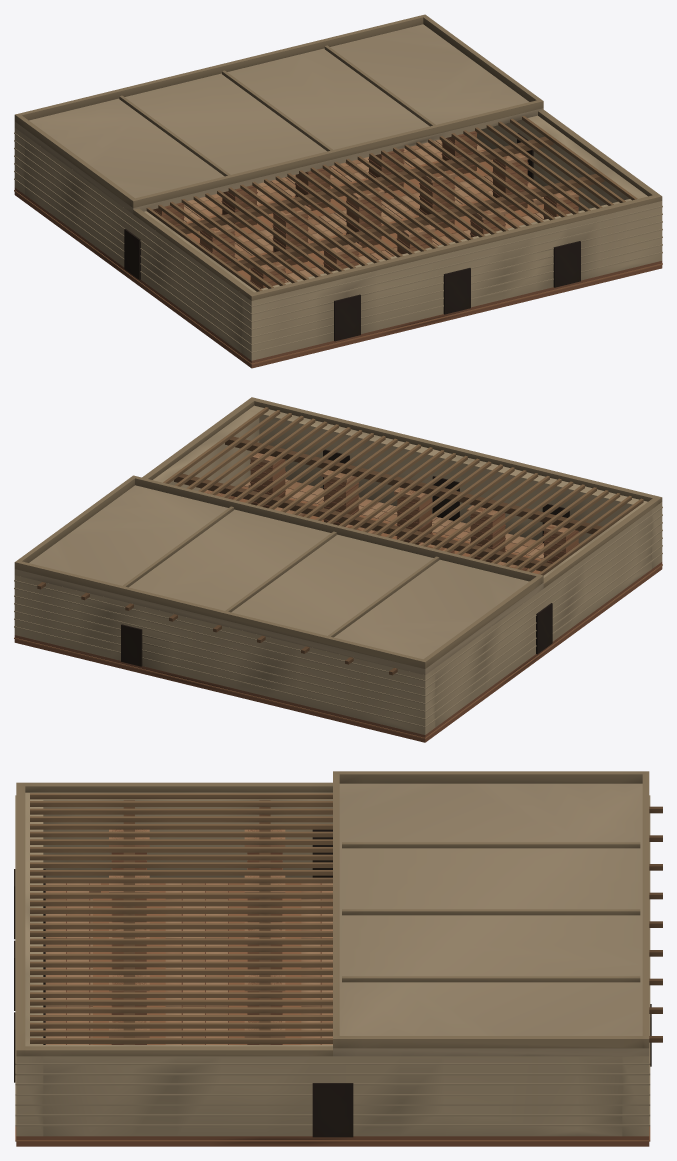
File: pillared-hall.glb
3 views of the same model, one above another, from view 1: azimuth 30°, elevation 25°; view 2: azimuth 150°, elevation 25°; view 3: azimuth 270°, elevation 25° (orthographic). The views are drawn at different scales.
Parts seen in each view (by area): view 1: p2_roof, p1_walls and piers, p0_floor; view 2: p2_roof, p1_walls and piers, p0_floor; view 3: p2_roof, p1_walls and piers, p0_floor.
Part boxes in pixels (left/top/right/bottom): p2_roof: left=14, top=14, right=662, bottom=300; p1_walls and piers: left=14, top=115, right=662, bottom=360; p0_floor: left=14, top=139, right=662, bottom=368; p2_roof: left=14, top=397, right=662, bottom=675; p1_walls and piers: left=14, top=405, right=662, bottom=734; p0_floor: left=14, top=479, right=662, bottom=742; p2_roof: left=16, top=771, right=662, bottom=1056; p1_walls and piers: left=14, top=792, right=651, bottom=1137; p0_floor: left=15, top=883, right=650, bottom=1146.
Size of the model in its own units: 28.2 by 5.25 by 28.7.
